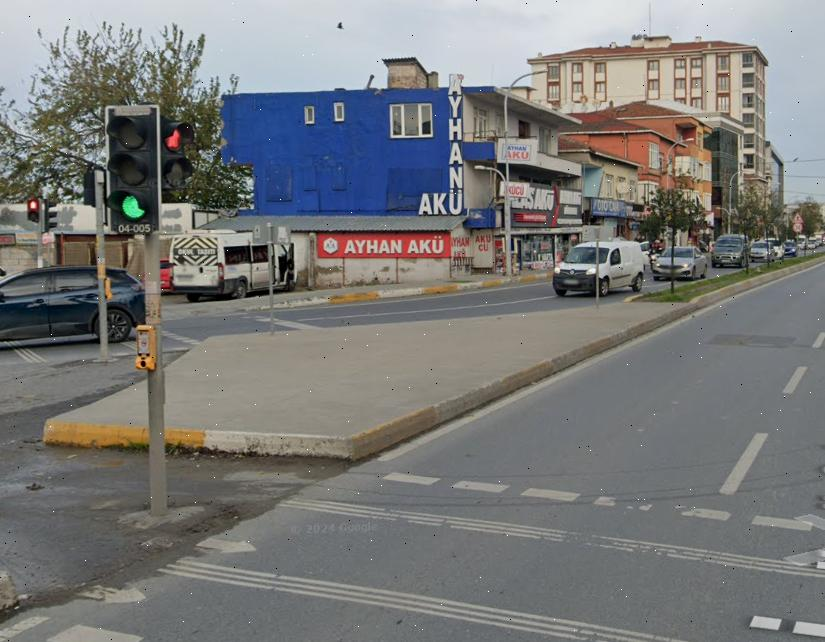greenlight: (107, 107, 155, 221)
